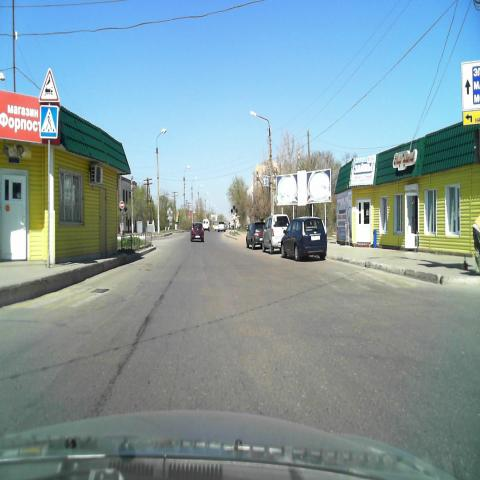1_2: (38, 67, 59, 104)
